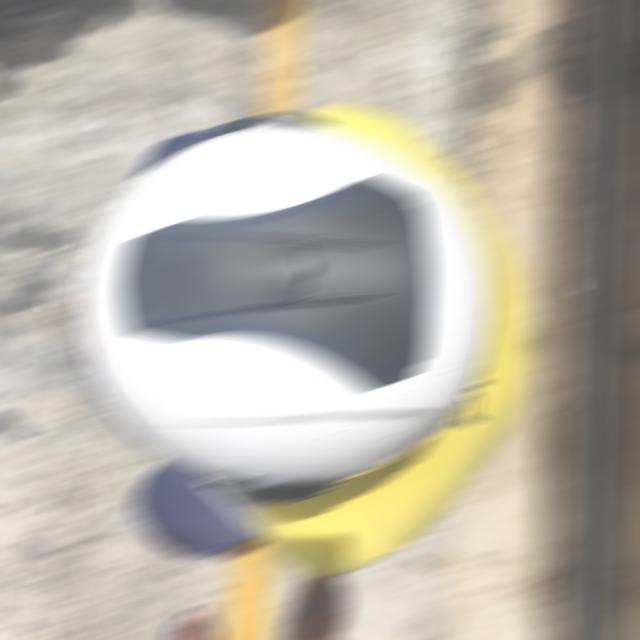With Helmet: (66, 115, 498, 501)
